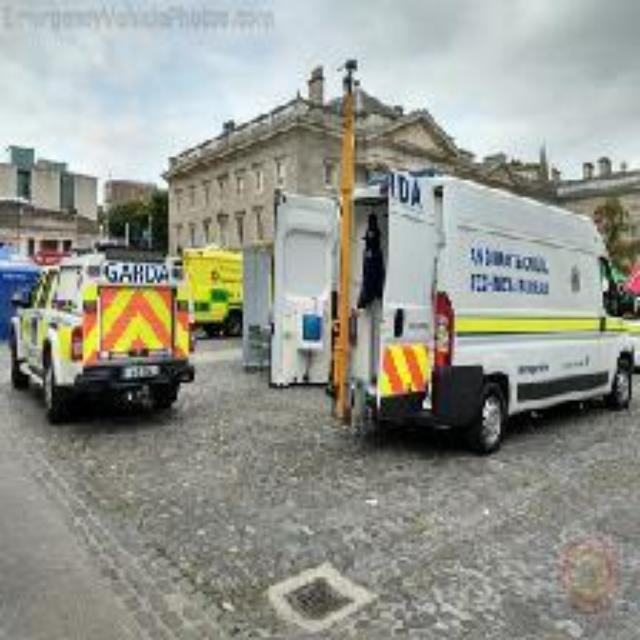emergency: (356, 176, 624, 438), (11, 238, 211, 430)
